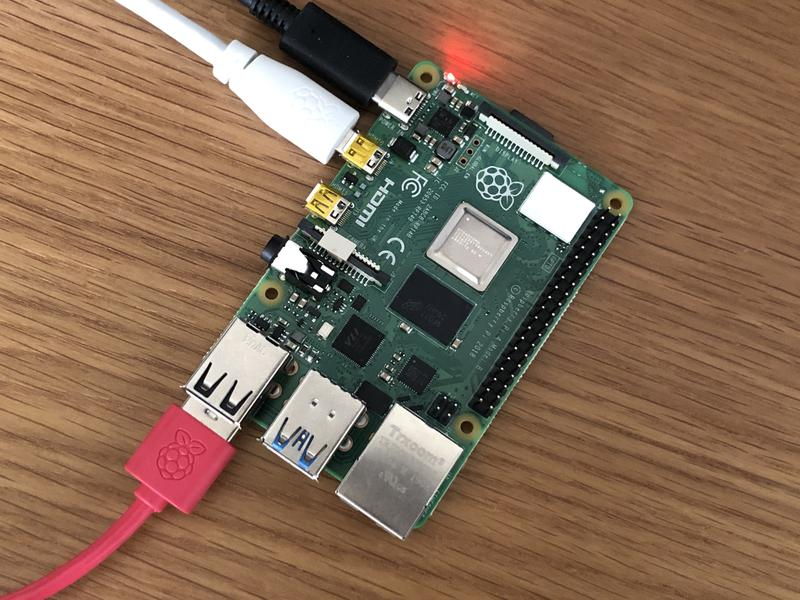Raspberry Pi: (187, 57, 635, 541)
